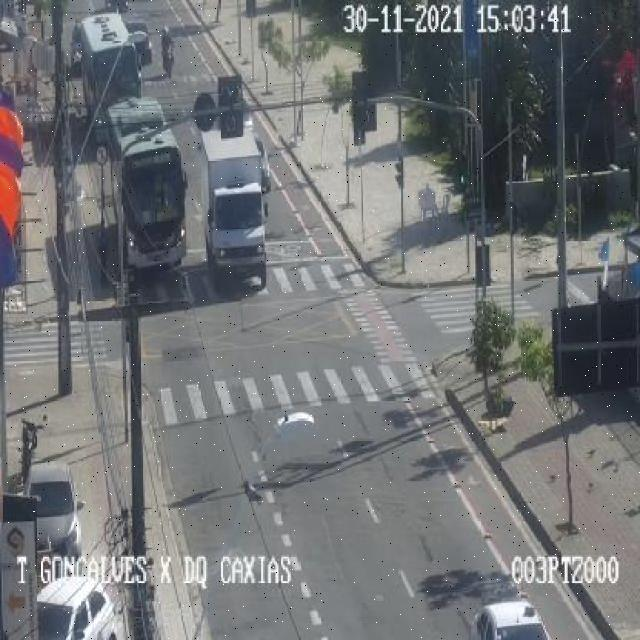Bus: (104, 94, 188, 274), (80, 7, 142, 146)
Car: (25, 462, 86, 560), (36, 573, 119, 640), (471, 597, 553, 640), (125, 19, 156, 66)
Cycle: (16, 418, 45, 483), (161, 39, 176, 80)
Truck: (196, 123, 272, 292)
